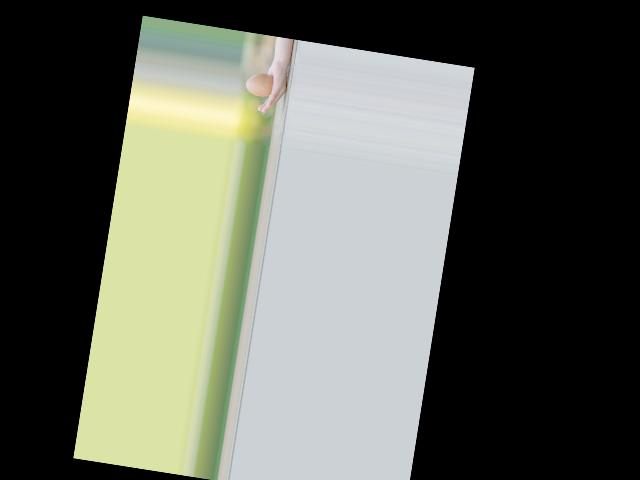egg: (244, 70, 274, 97)
